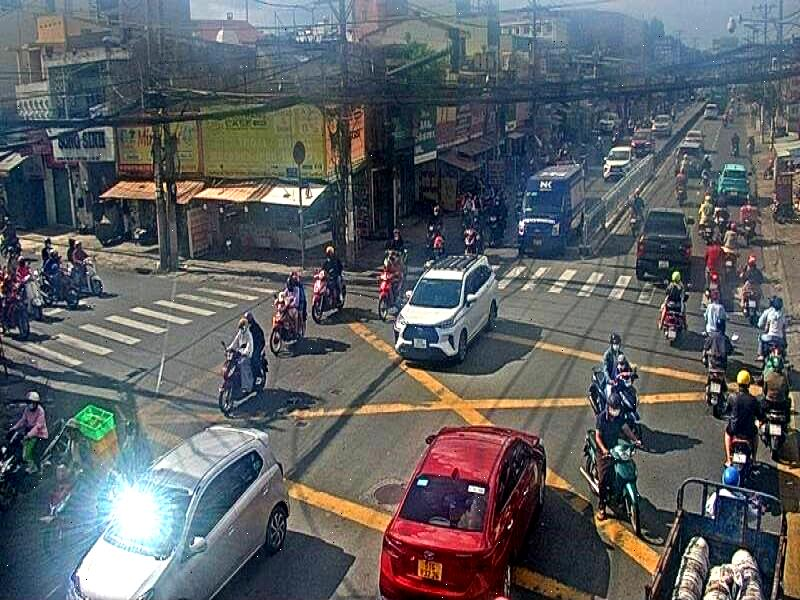car: (62, 424, 292, 600), (376, 425, 548, 600), (394, 253, 497, 366), (516, 164, 586, 258), (635, 209, 695, 281)
motorcycle: (41, 464, 158, 561), (583, 429, 643, 537), (2, 415, 64, 518), (588, 368, 646, 451), (219, 344, 270, 417), (269, 298, 306, 358), (313, 270, 347, 328), (377, 268, 409, 324)
truck: (646, 480, 793, 600)
